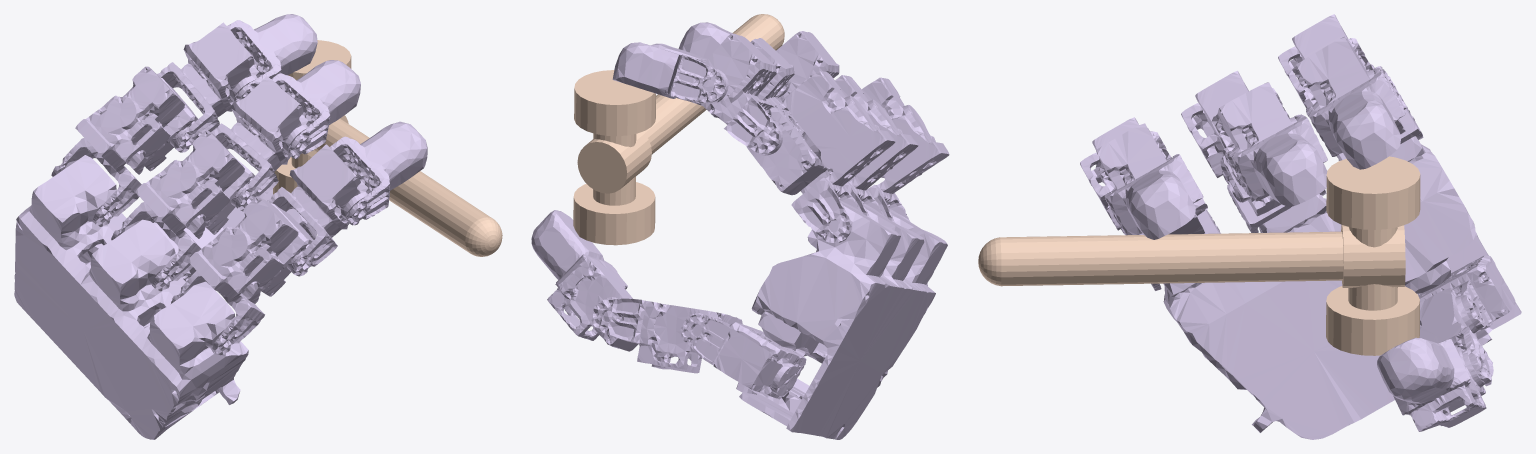
Rendered from a86fc09b7d6cba-final.glb.
3 renders of one model, left to right at view 1: azimuth 30°, elevation 25°; view 2: azimuth 150°, elevation 25°; view 3: azimuth 270°, elevation 25°, orthographic. The views are drawn at different scales.
Visible parts, largest first — view 1: LEAP_hand, world; view 2: LEAP_hand, world; view 3: LEAP_hand, world.
Boxes of the visible parts, x1,y1,x2,y2 form: LEAP_hand: (14,14,427,439); world: (273,40,502,256); LEAP_hand: (531,22,949,439); world: (573,14,784,245); LEAP_hand: (1080,14,1521,439); world: (978,156,1420,355).
Size of the model in its own units: 0.1831 by 0.2006 by 0.2199.
